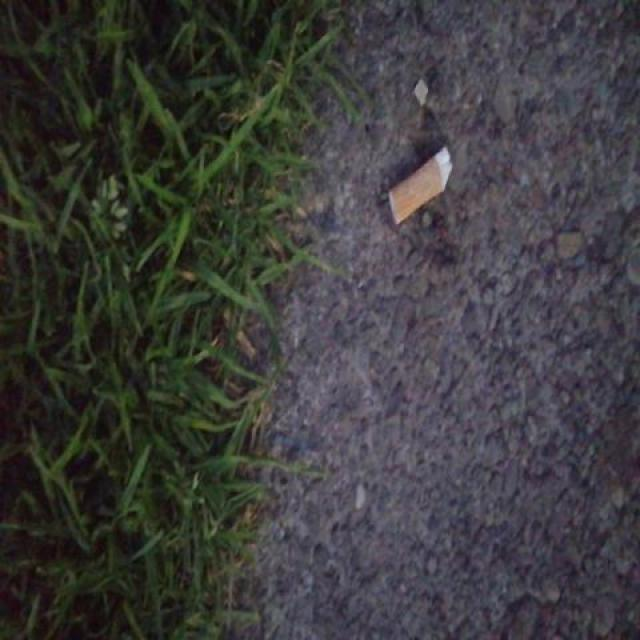non-organic waste: (384, 140, 456, 232)
